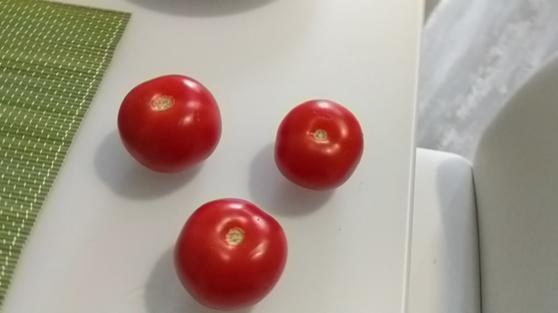tomato: (171, 196, 288, 312), (116, 75, 223, 174), (272, 98, 365, 188)
